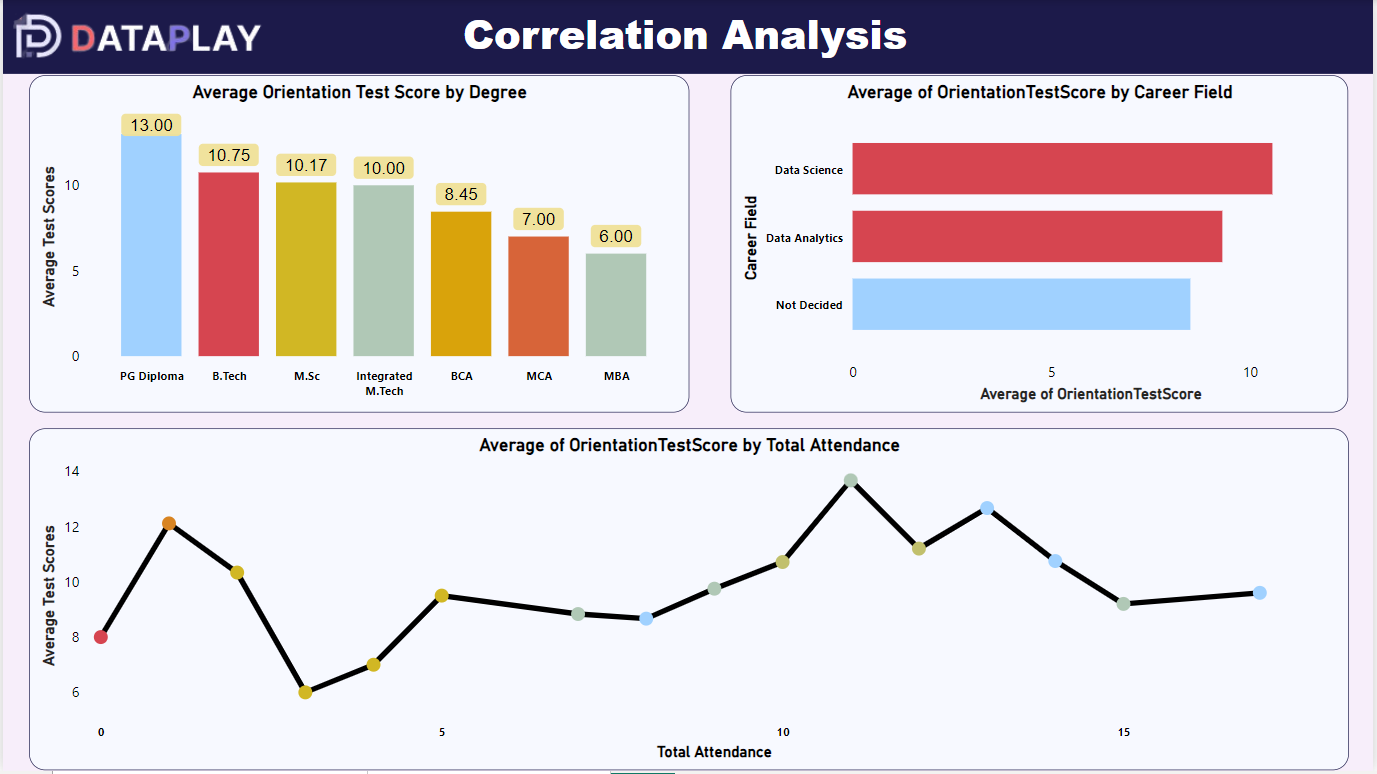

The dashboard page shown, as its layout file describes it:
{"tool":"powerbi","page":{"name":"Correlation Analysis","canvas":[1280,720],"ordinal":1},"visuals":[{"type":"shape","box":[0,0,1280,69],"z":0},{"type":"image","box":[1.5,6.1,246.8,57.5],"z":1000},{"type":"textbox","box":[424.9,0,433.5,70.8],"z":2000},{"type":"columnChart","title":"Average Orientation Test Score by Degree","fields":{"Y":["Avg(Modified_Registration_Form_CSV.OrientationTestScore)"],"Category":["Modified_Registration_Form_CSV.Degree"]},"box":[24.2,69.7,616.3,315],"z":3000},{"type":"lineChart","fields":{"Category":["Modified_Registration_Form_CSV.Total Attendance"],"Y":["Avg(Modified_Registration_Form_CSV.OrientationTestScore)"]},"box":[24.2,399.8,1232.6,319.5],"z":4000},{"type":"barChart","fields":{"Category":["Modified_Registration_Form_CSV.Career Field"],"Y":["Avg(Modified_Registration_Form_CSV.OrientationTestScore)"]},"box":[679.9,69.7,576.9,315],"z":5000}]}

Visuals, with their boxes in screenshot pixels (x1, y1, x2, y2), scaled from the page's 1280x720 canvas onto the 1377x774 screenshot:
shape: box(0, 0, 1376, 74)
image: box(2, 7, 267, 68)
textbox: box(457, 0, 923, 76)
"Average Orientation Test Score by Degree" columnChart: box(26, 75, 689, 414)
lineChart - Modified_Registration_Form_CSV.Total Attendance x Avg(Modified_Registration_Form_CSV.OrientationTestScore): box(26, 430, 1352, 773)
barChart - Modified_Registration_Form_CSV.Career Field x Avg(Modified_Registration_Form_CSV.OrientationTestScore): box(731, 75, 1352, 414)
